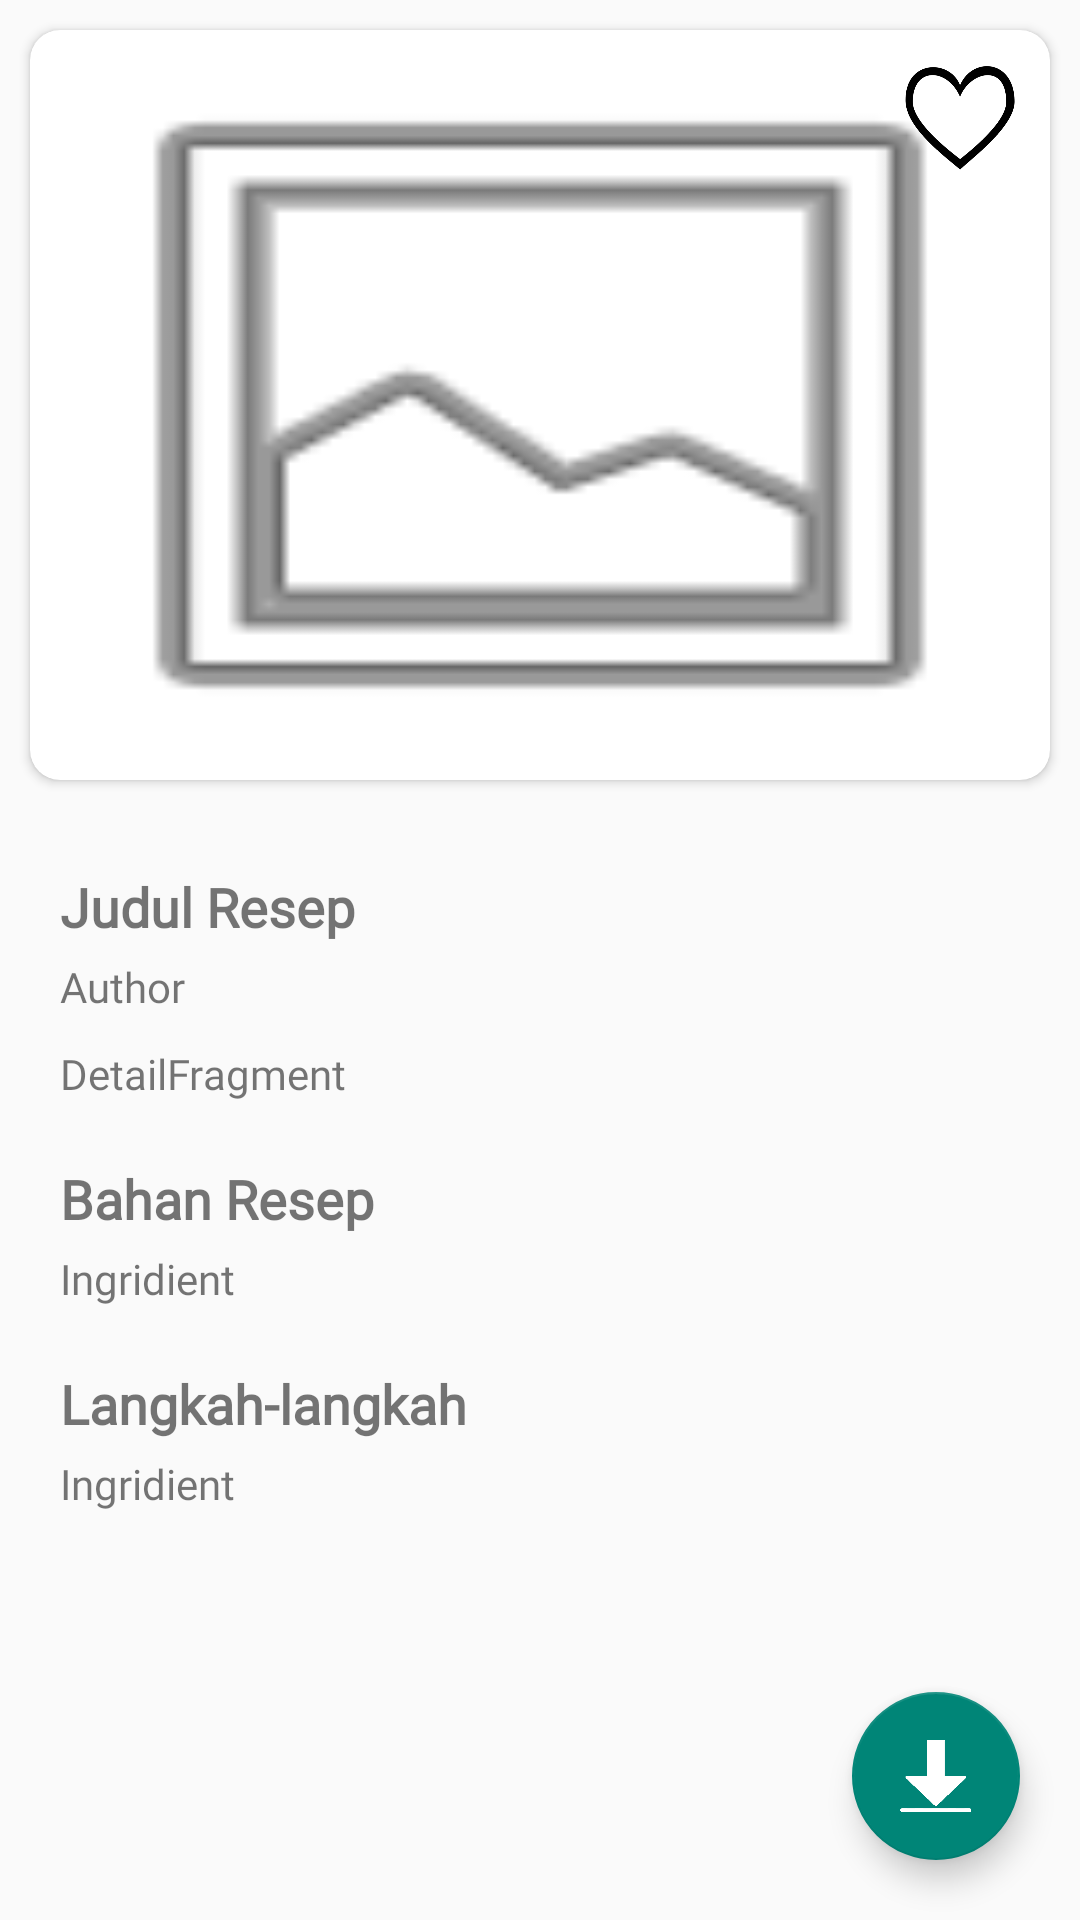

Where icons sit on this 1080w x 1920h app screen, as (x1, y1, x2, y2):
download: (852, 1692, 1020, 1860)
love: (905, 66, 1015, 170)
